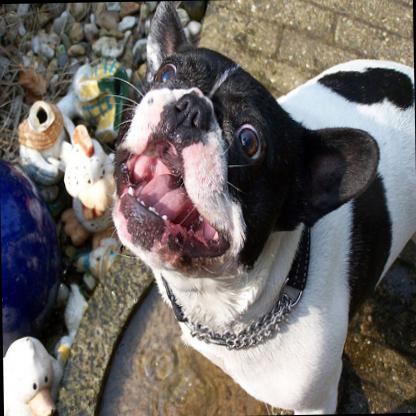French_bulldog: (99, 0, 416, 415)
